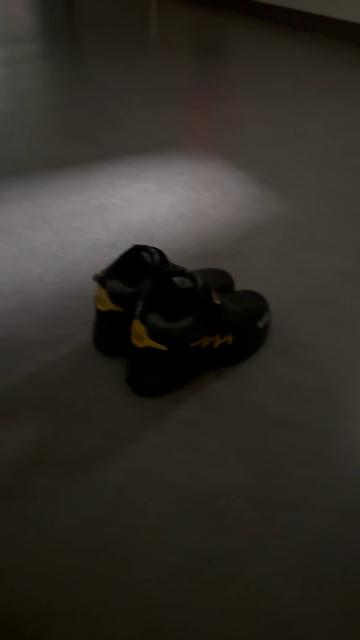shoe_worn: (118, 283, 273, 402), (89, 243, 235, 361)
